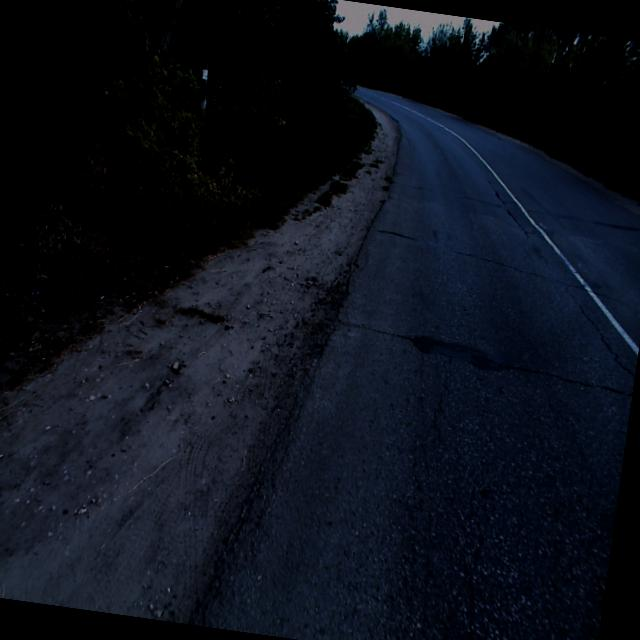road: (190, 84, 640, 640)
